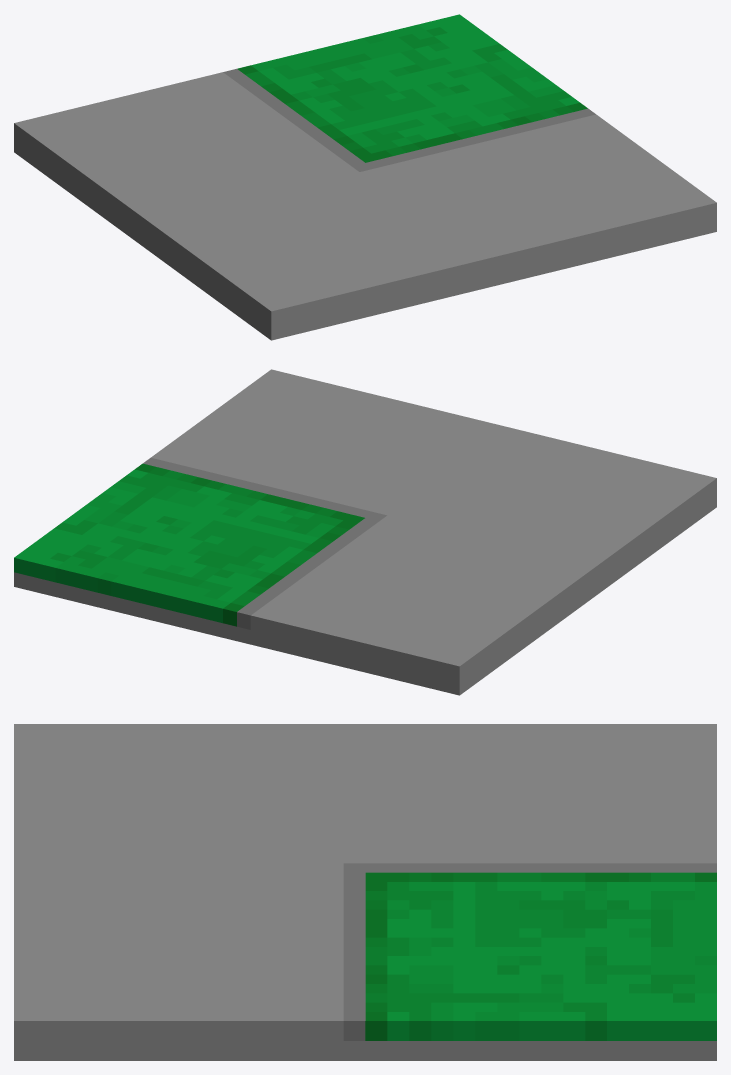
Rendered from forest-city-edgy-edge-outer-4.gltf.
3 views of the same model, one above another, from view 1: azimuth 30°, elevation 25°; view 2: azimuth 150°, elevation 25°; view 3: azimuth 270°, elevation 25° (orthographic). The views are drawn at different scales.
Parts seen in each view (by area): view 1: forest-city-edgy-edge-outer-4; view 2: forest-city-edgy-edge-outer-4; view 3: forest-city-edgy-edge-outer-4.
Boxes of the visible parts, box(x1,y1,x2,y2) form: forest-city-edgy-edge-outer-4: box(14, 14, 716, 340); forest-city-edgy-edge-outer-4: box(14, 369, 716, 695); forest-city-edgy-edge-outer-4: box(14, 724, 716, 1060).
Size of the model in its own units: 3.2 by 0.2 by 3.2.
Materials: 1 (1 with a texture image).
